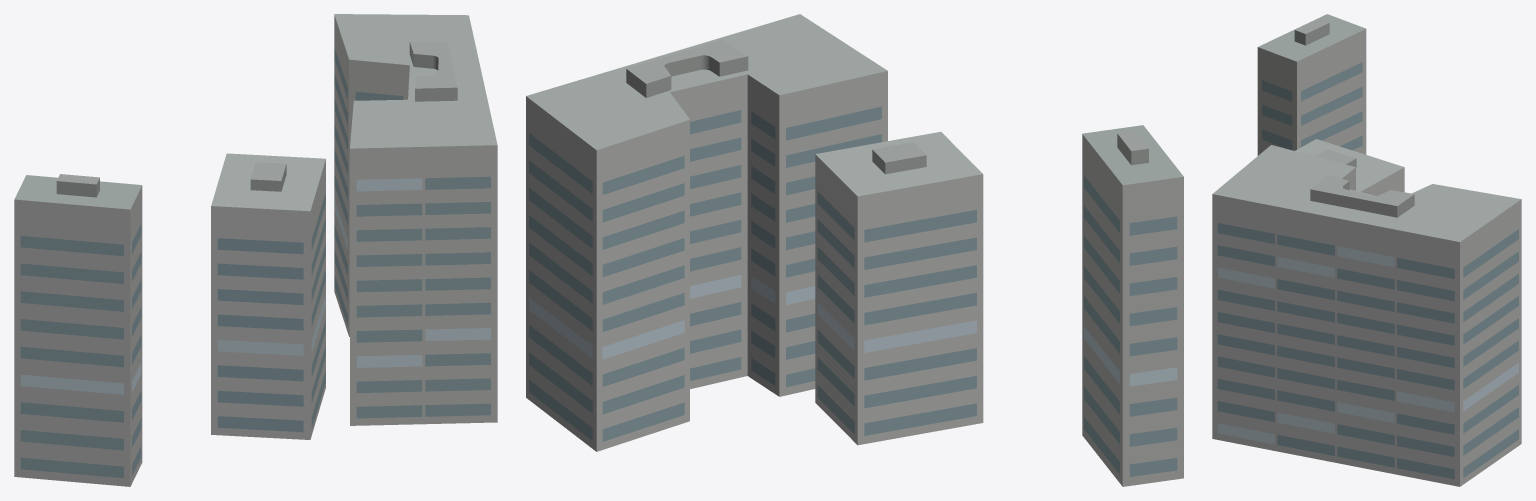
Rendered from apt-a10023488.glb.
3 renders of one model, left to right at view 1: azimuth 30°, elevation 25°; view 2: azimuth 150°, elevation 25°; view 3: azimuth 270°, elevation 25°, orthographic. The views are drawn at different scales.
Visible parts, largest first — view 1: apt-a10023488; view 2: apt-a10023488; view 3: apt-a10023488.
Part boxes in pixels (x1,y1,x2,y2): apt-a10023488: (14, 14, 497, 486); apt-a10023488: (526, 14, 1183, 486); apt-a10023488: (1212, 14, 1521, 486).
Bounding box in the file's own units: 76.37 × 40 × 43.75.
